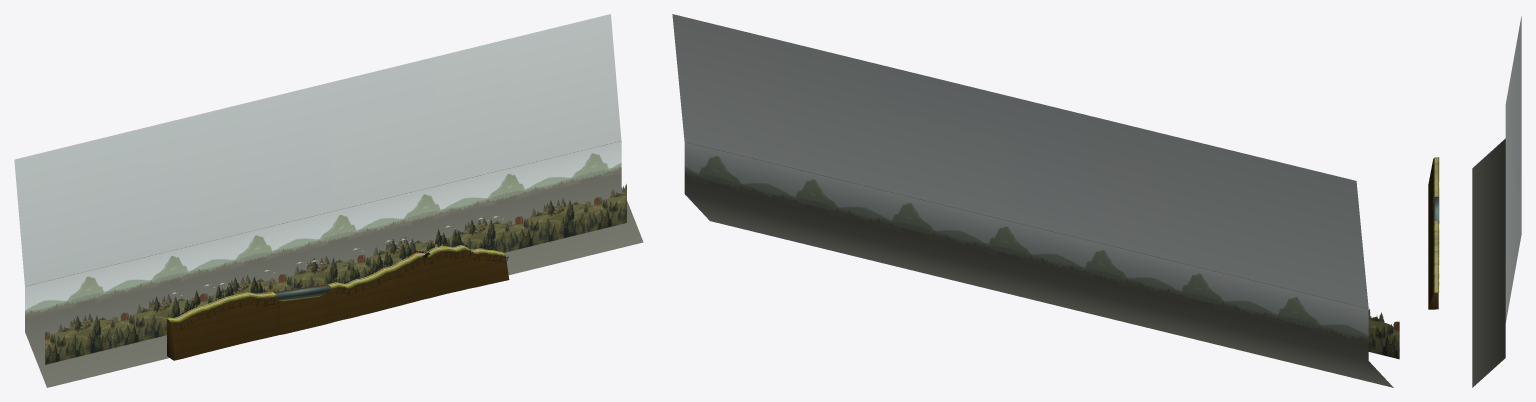
File: hcr2_forest_glb.glb
3 renders of one model, left to right at view 1: azimuth 30°, elevation 25°; view 2: azimuth 150°, elevation 25°; view 3: azimuth 270°, elevation 25°, orthographic. The views are drawn at different scales.
Visible parts, largest first — view 1: bg2_1, road_8, bg_0, details_4, fence_5, water_9; view 2: bg2_1, bg_0; view 3: bg2_1, road_8, water_9.
Boxes of the visible parts, <box> form: bg2_1: <box>14,14,643,387</box>; road_8: <box>167,245,509,360</box>; bg_0: <box>45,184,626,364</box>; details_4: <box>173,229,493,317</box>; fence_5: <box>173,249,508,329</box>; water_9: <box>274,284,331,300</box>; bg2_1: <box>672,14,1393,387</box>; bg_0: <box>1368,308,1399,359</box>; bg2_1: <box>1472,16,1521,387</box>; road_8: <box>1428,157,1439,309</box>; water_9: <box>1433,196,1439,221</box>.
Size of the model in its own units: 415 by 135 by 74.33.
11 materials, 11 textured.
